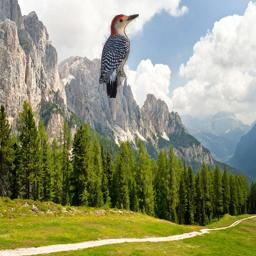Woodpecker: (99, 14, 139, 98)
